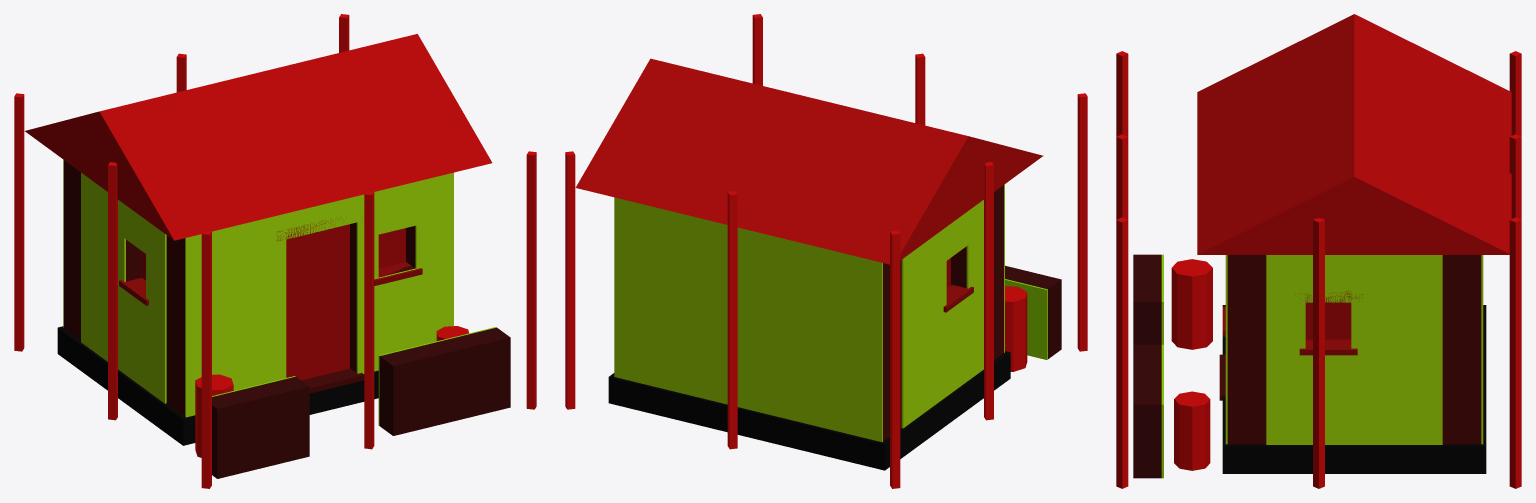
The model's file is common_housing_3_lod1.glb.
3 views of the same model, side by side, from view 1: azimuth 30°, elevation 25°; view 2: azimuth 150°, elevation 25°; view 3: azimuth 270°, elevation 25° (orthographic). The views are drawn at different scales.
Visible parts, largest first — view 1: common_housing_3_lod1; view 2: common_housing_3_lod1; view 3: common_housing_3_lod1.
Boxes of the visible parts, box(x1,y1,x2,y2) form: common_housing_3_lod1: box(14, 14, 536, 488); common_housing_3_lod1: box(565, 14, 1087, 488); common_housing_3_lod1: box(1116, 14, 1521, 488).
Bounding box in the file's own units: 2 × 1.67 × 2.
